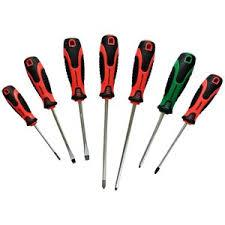screwdriver: (0, 82, 60, 161), (99, 33, 112, 190), (111, 105, 134, 191), (153, 140, 174, 175), (136, 131, 153, 168), (62, 133, 77, 165), (79, 129, 91, 160)
